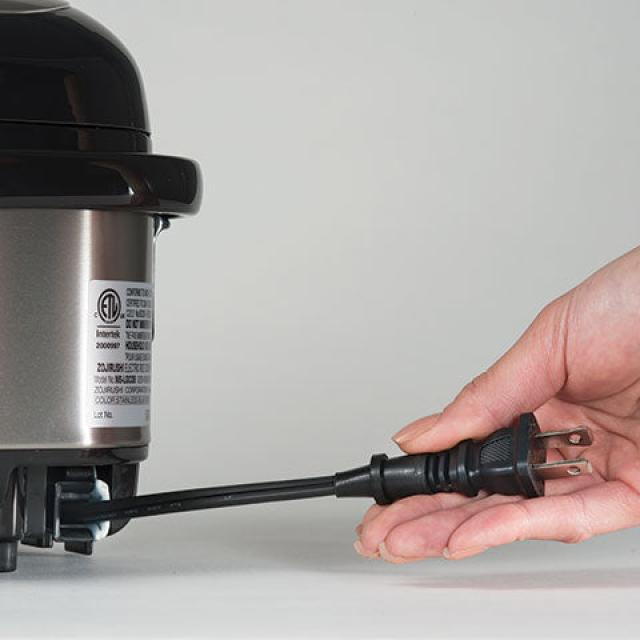electronics: (0, 0, 592, 573)
